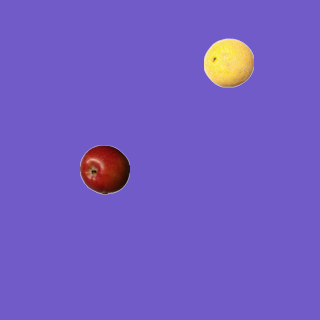Apple Braeburn: (79, 144, 129, 194)
Cantaloupe 1: (203, 37, 253, 87)
